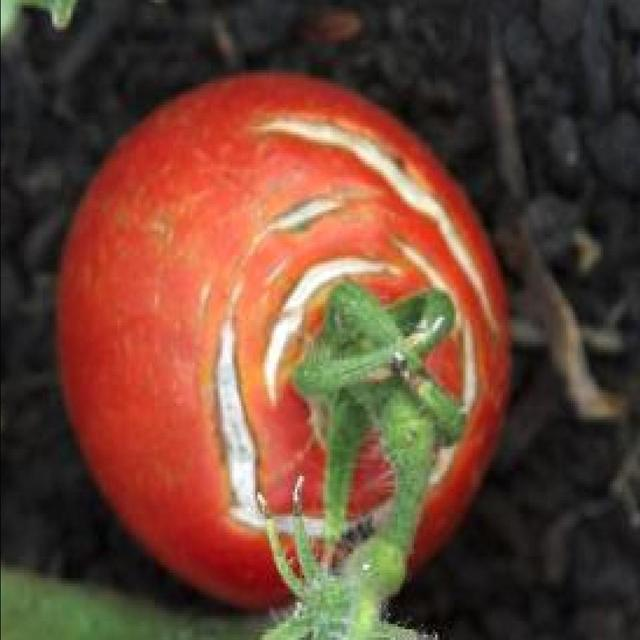Cracking Fruit: (135, 68, 336, 363)
